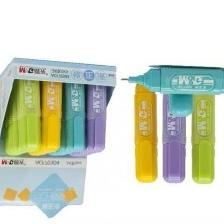book: (0, 55, 120, 222)
correction_fluid: (118, 62, 224, 96), (129, 77, 160, 186), (188, 76, 218, 187), (160, 78, 188, 187), (60, 67, 90, 152), (14, 66, 43, 153), (35, 70, 64, 153), (83, 70, 108, 154)
